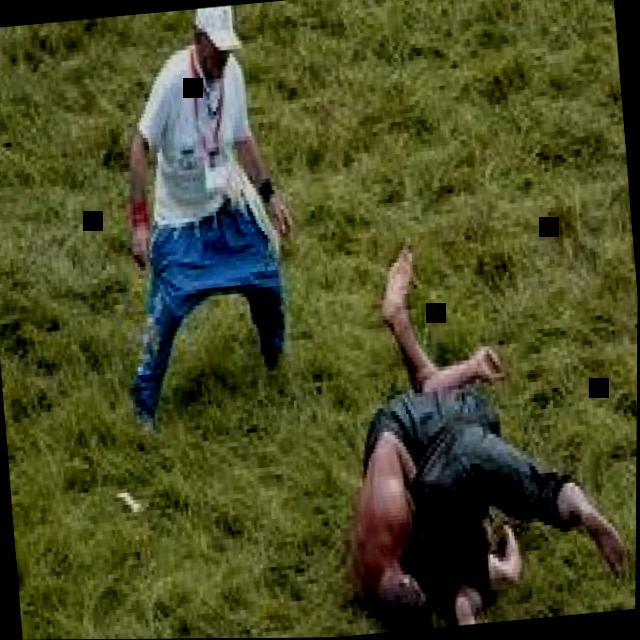Fall-Detected: (297, 198, 639, 638)
